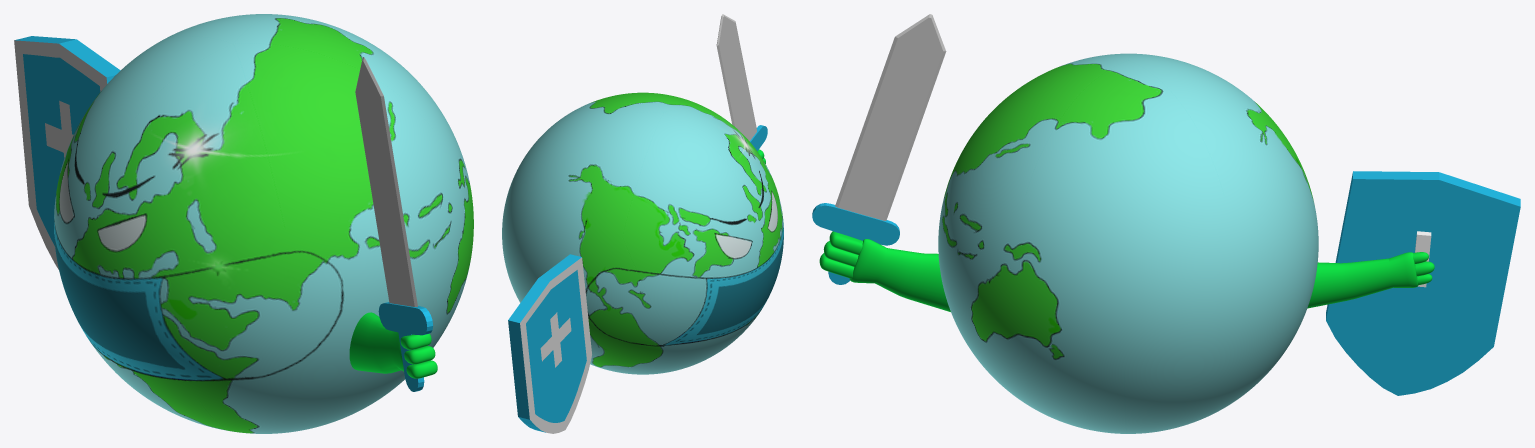
File: earth.glb
3 views of the same model, side by side, from view 1: azimuth 30°, elevation 25°; view 2: azimuth 150°, elevation 25°; view 3: azimuth 270°, elevation 25° (orthographic). The views are drawn at different scales.
Parts seen in each view (by area): view 1: earth(1)_29, Plane.002_30, Plane.001_1, Cylinder.002_133, Plane_0, Cube.001_139, Cube.002_140; view 2: earth(1)_29, Plane.002_30, Plane.001_1, Plane_0; view 3: earth(1)_29, Plane.002_30, Plane.001_1, Cylinder.002_133, Cylinder.003_135, Plane_0.
Part boxes in pixels (left/top/right/bottom): earth(1)_29: left=54, top=14, right=473, bottom=433; Plane.002_30: left=14, top=36, right=120, bottom=269; Plane.001_1: left=355, top=57, right=417, bottom=306; Cylinder.002_133: left=349, top=312, right=403, bottom=373; Plane_0: left=378, top=302, right=433, bottom=391; Cube.001_139: left=404, top=345, right=435, bottom=364; Cube.002_140: left=406, top=360, right=437, bottom=378; earth(1)_29: left=502, top=92, right=783, bottom=374; Plane.002_30: left=508, top=254, right=591, bottom=433; Plane.001_1: left=716, top=14, right=756, bottom=141; Plane_0: left=750, top=125, right=767, bottom=150; earth(1)_29: left=938, top=53, right=1318, bottom=433; Plane.002_30: left=1326, top=171, right=1520, bottom=395; Plane.001_1: left=835, top=14, right=946, bottom=220; Cylinder.002_133: left=849, top=239, right=950, bottom=311; Cylinder.003_135: left=1307, top=252, right=1418, bottom=308; Plane_0: left=812, top=203, right=899, bottom=284.
Bounding box in the file's own units: 4.46 × 5.15 × 8.31.
7 materials, 1 textured.
